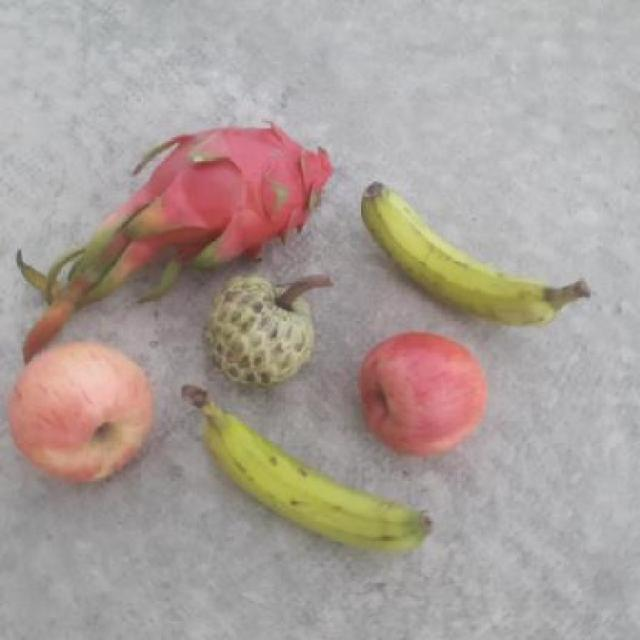apple: (7, 338, 158, 482), (352, 329, 493, 466)
banana: (180, 383, 452, 554), (358, 175, 592, 332)
dragon fruit: (132, 121, 343, 272)
sugar apple: (200, 275, 338, 387)
